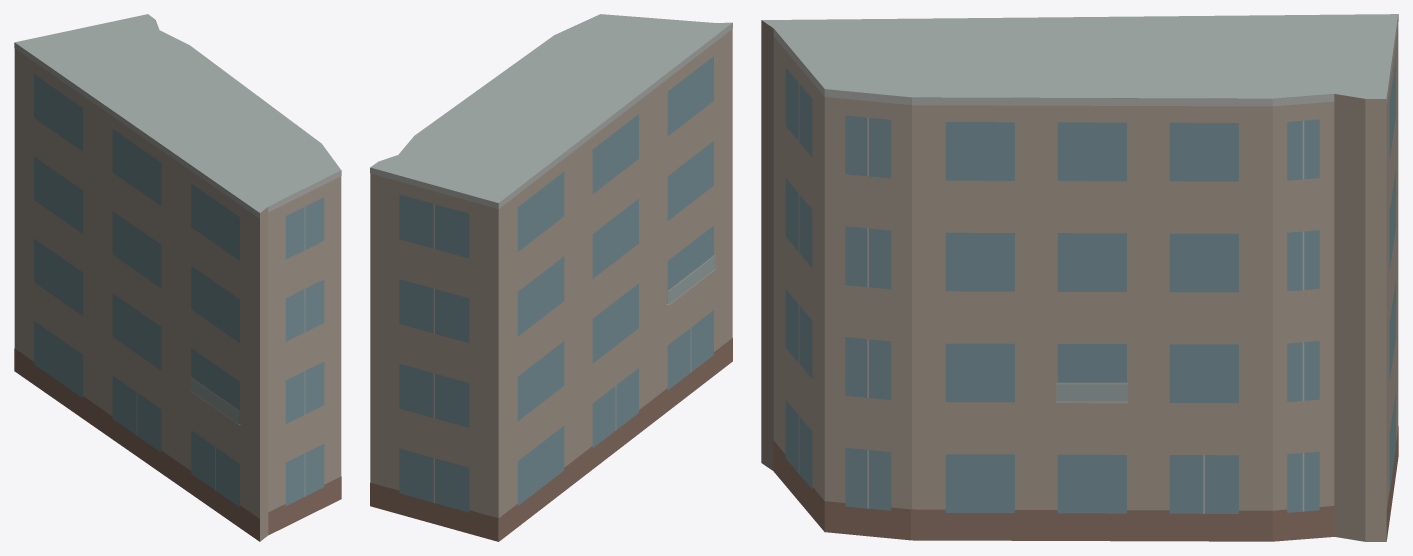
The model's file is survey-upis-32934871.glb.
3 renders of one model, left to right at view 1: azimuth 30°, elevation 25°; view 2: azimuth 150°, elevation 25°; view 3: azimuth 270°, elevation 25°, orthographic. The views are drawn at different scales.
Visible parts, largest first — view 1: survey-upis-32934871.tmp; view 2: survey-upis-32934871.tmp; view 3: survey-upis-32934871.tmp.
Part boxes in pixels (box(x1,y1,x2,y2)): survey-upis-32934871.tmp: box(14, 14, 341, 541); survey-upis-32934871.tmp: box(370, 14, 732, 541); survey-upis-32934871.tmp: box(761, 14, 1398, 541).
Bounding box in the file's own units: 5.66 × 13.75 × 17.92.
